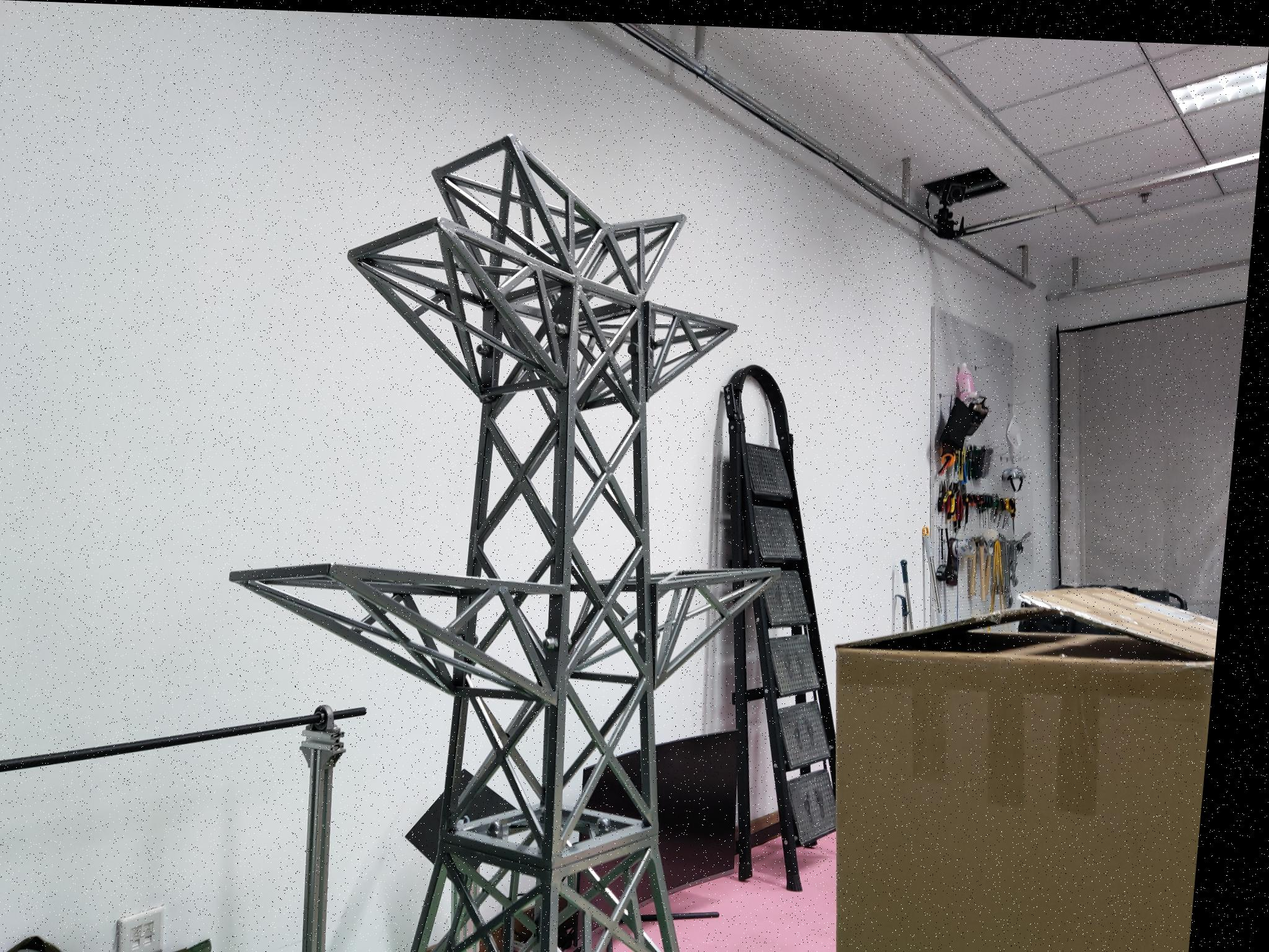tower: (209, 124, 819, 952)
